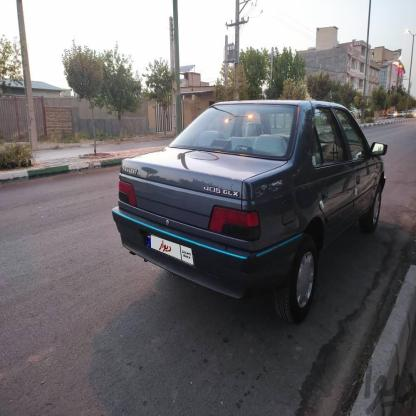Car: (117, 82, 392, 355)
